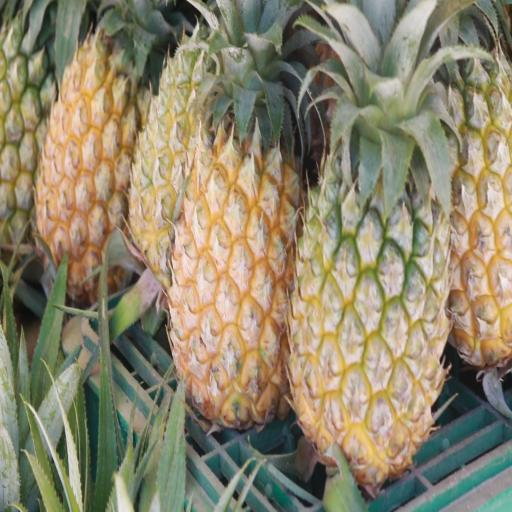------------------------------: (282, 5, 455, 499)
Pineapple - v8 v1: (163, 15, 308, 432), (125, 0, 257, 293), (407, 27, 512, 391), (24, 0, 150, 301)
